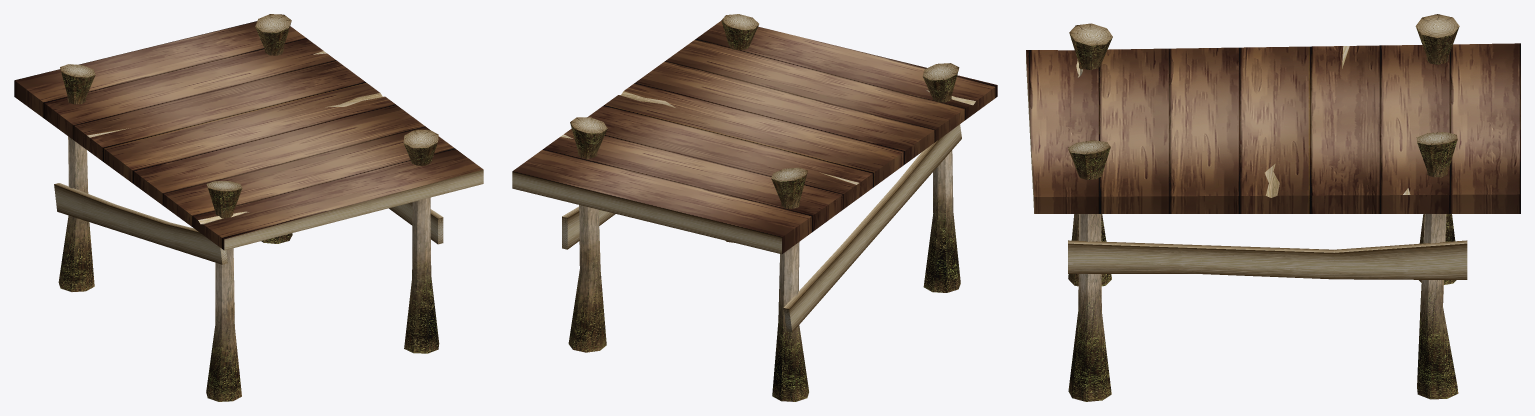
Rendered from p2_platform2_small_LOD0.fbx.
3 views of the same model, side by side, from view 1: azimuth 30°, elevation 25°; view 2: azimuth 150°, elevation 25°; view 3: azimuth 270°, elevation 25° (orthographic). The views are drawn at different scales.
Visible parts, largest first — view 1: polymsh; view 2: polymsh; view 3: polymsh.
Part boxes in pixels (<box>): polymsh: <box>14,14,483,401</box>; polymsh: <box>512,14,997,401</box>; polymsh: <box>1026,14,1520,401</box>.
Size of the model in its own units: 100 by 79.21 by 138.
